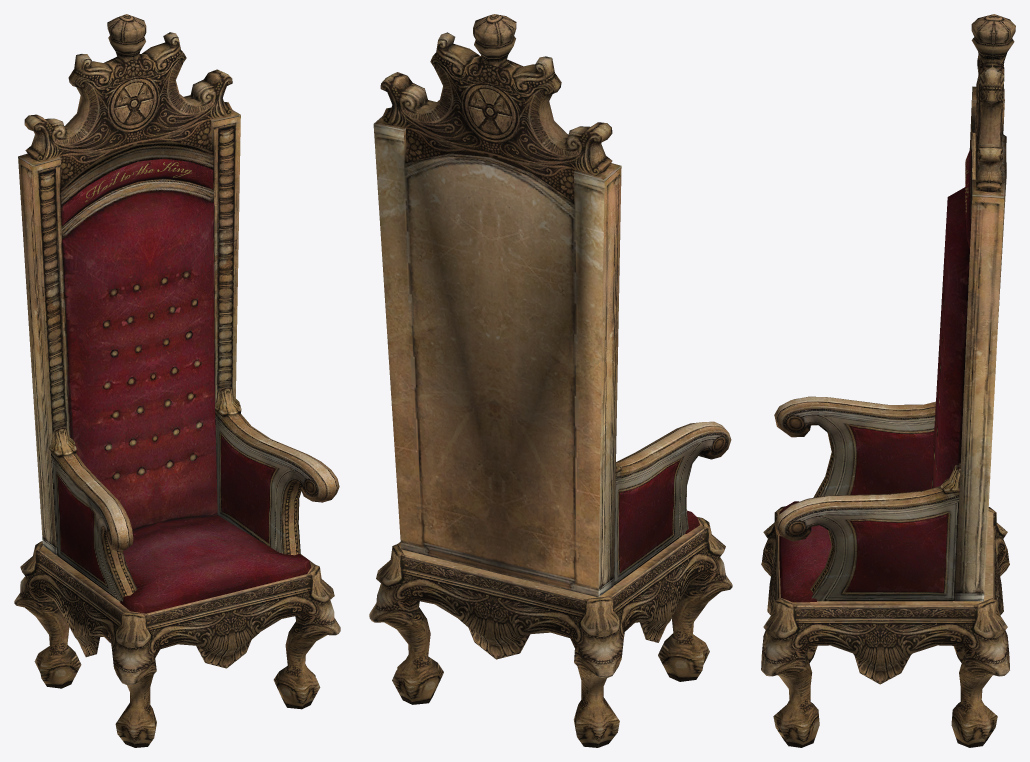
The model's file is Duke_Throne.obj.
The picture shows the model from 3 angles, left to right: view 1: azimuth 30°, elevation 25°; view 2: azimuth 150°, elevation 25°; view 3: azimuth 270°, elevation 25°; orthographic projection. The views are drawn at different scales.
Visible parts, largest first — view 1: DukeThrone; view 2: DukeThrone; view 3: DukeThrone.
Part boxes in pixels (x1=…): DukeThrone: x1=14, y1=14, x2=340, y2=747; DukeThrone: x1=369, y1=14, x2=732, y2=747; DukeThrone: x1=761, y1=14, x2=1015, y2=747.
Bounding box in the file's own units: 1.68 × 4.54 × 1.53.
1 material, 1 textured.
